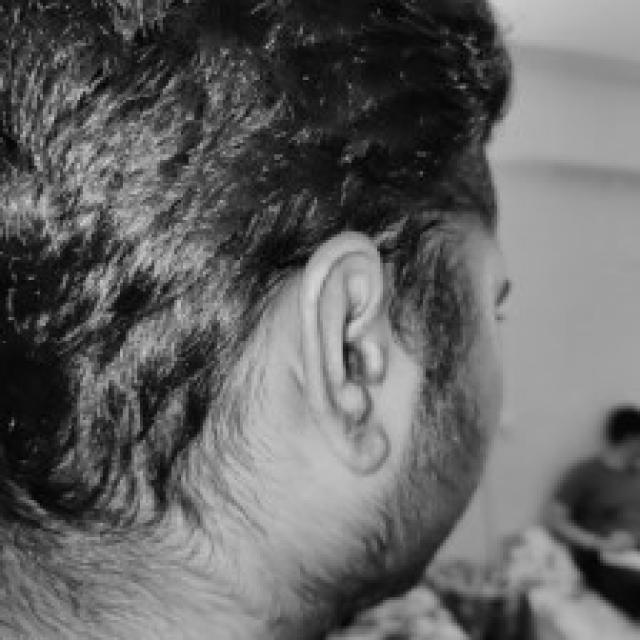ear: (300, 231, 386, 471)
